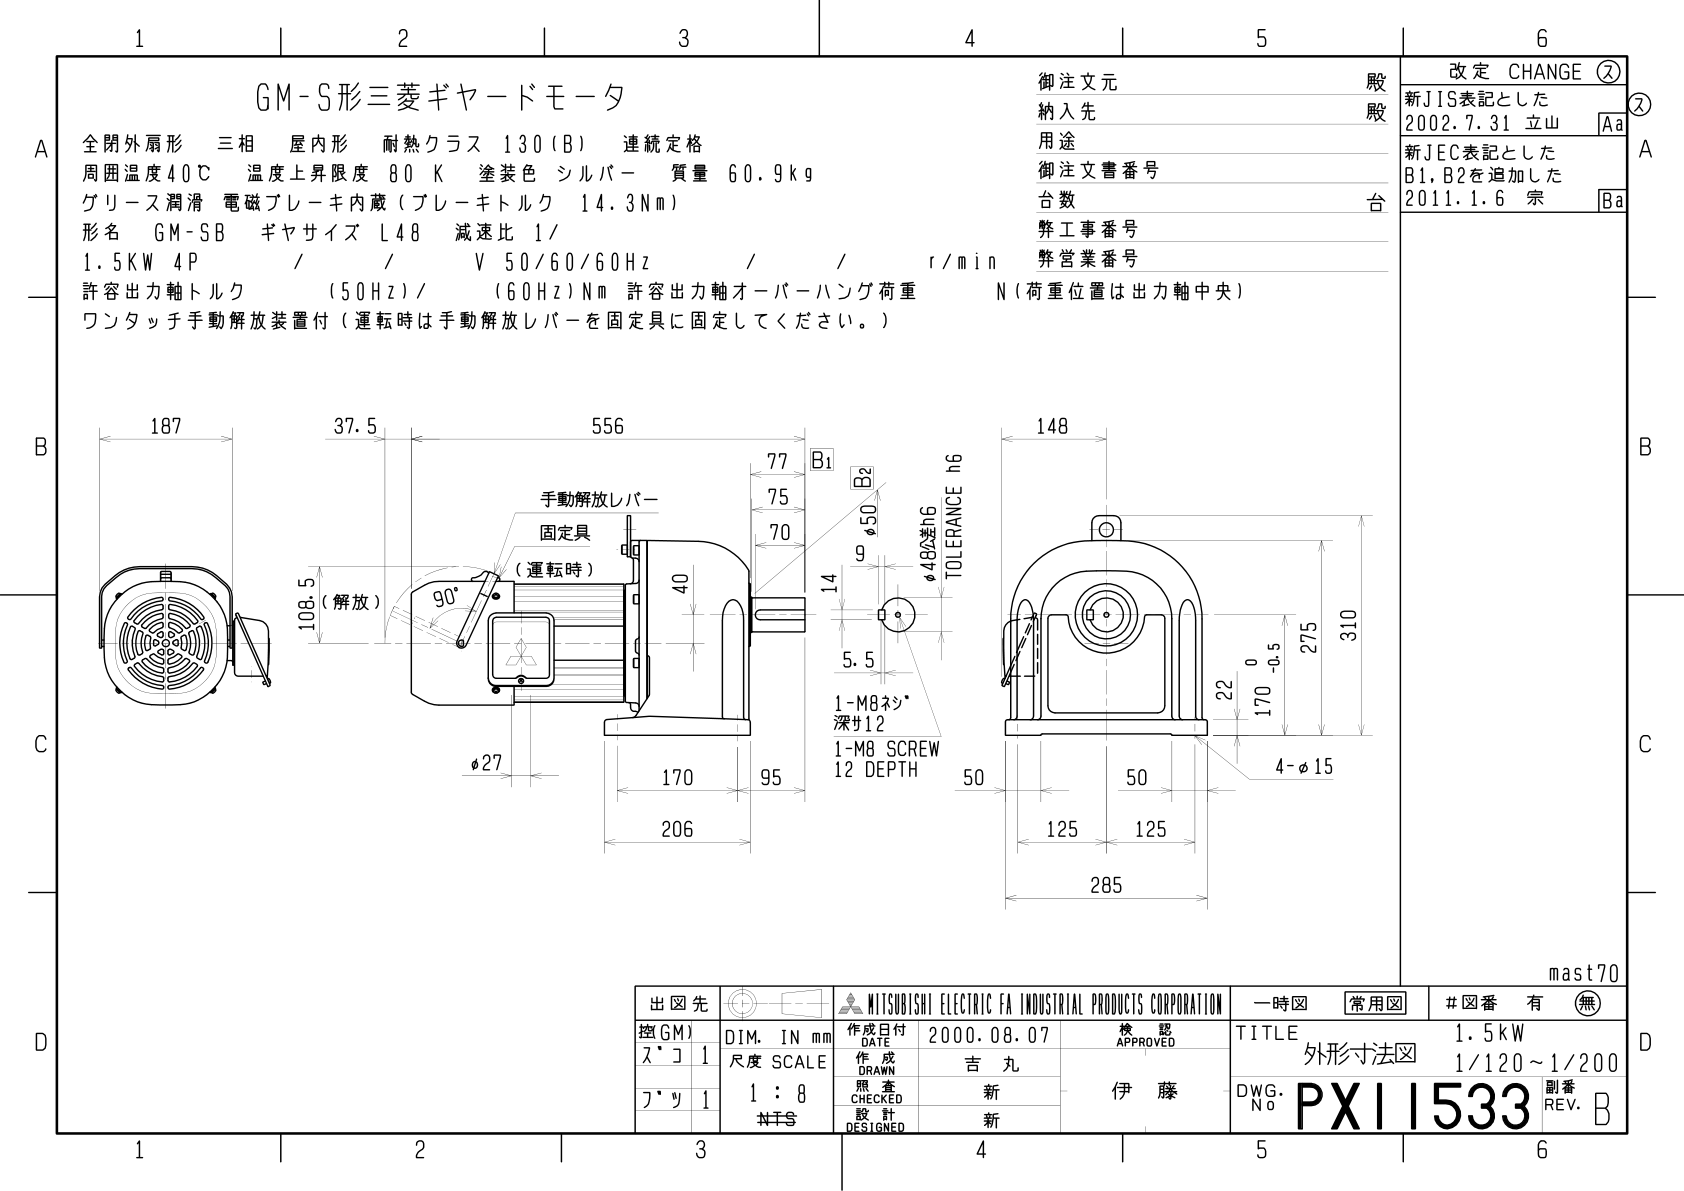GM_S_手動ブレーキ＿三相_脚: (4, 6, 1684, 1191)
